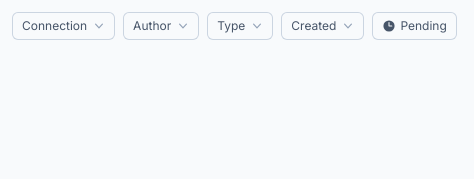
Test: RequestFilterBar › inline search › resets the query when the dropdown is reopened
This screenshot has width=474, height=179.
Click the button with test id "filter-connection".
click(64, 26)  # box [12,12,115,40]
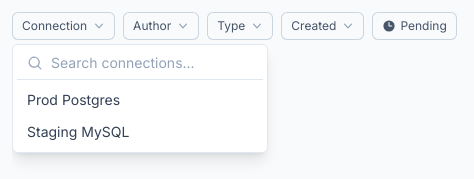
Type "staging" into the field with test id "filter-connection-search".
click(152, 63); type("staging")  # box [51,53,253,73]
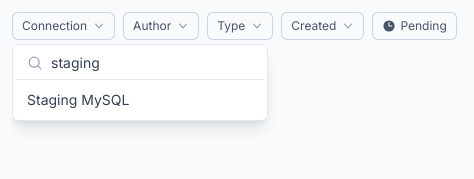
Press Escape
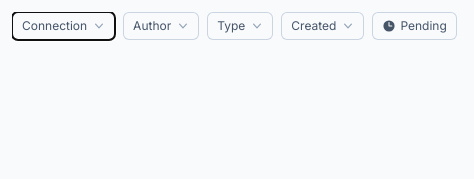
Check: the field with test id "filter-connection-search" is gone
Click the button with test id "filter-connection".
click(64, 26)  # box [12,12,115,40]
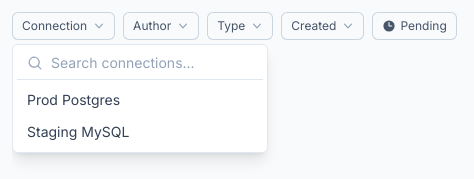
Check: the field with test id "filter-connection-search" is empty, box [51,53,253,73]
Check: the button with test id "filter-connection-Prod Postgres" is shown, box [17,84,263,116]
